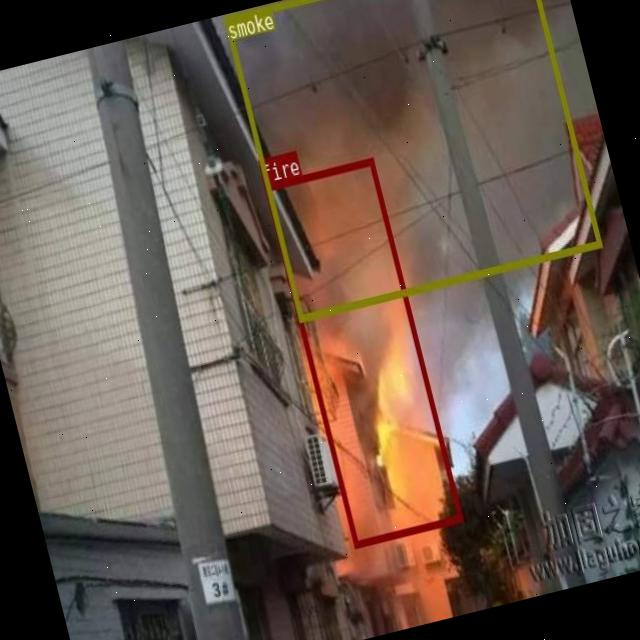fire: (262, 157, 462, 548)
smoke: (223, 0, 601, 320)
